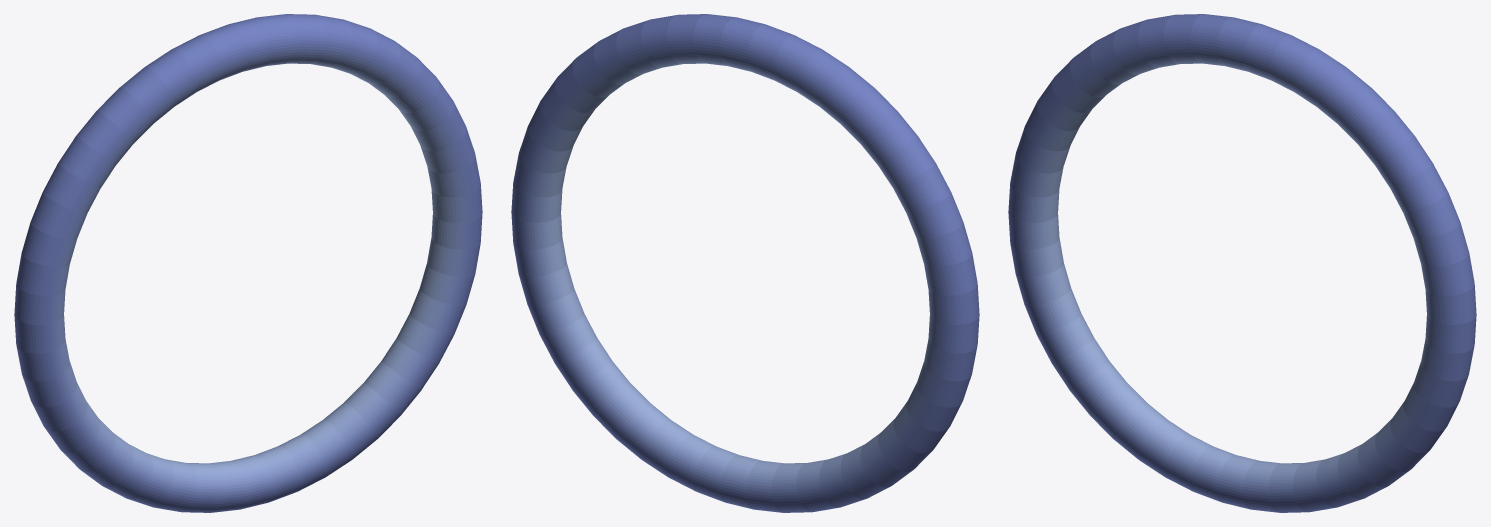
3 renders of one model, left to right at view 1: azimuth 30°, elevation 25°; view 2: azimuth 150°, elevation 25°; view 3: azimuth 330°, elevation 25°, orthographic.
Parts seen in each view (by area): view 1: world; view 2: world; view 3: world.
Boxes of the visible parts, bbox=[...] form: world: bbox=[14, 14, 482, 512]; world: bbox=[511, 14, 979, 512]; world: bbox=[1008, 14, 1476, 512].
Size of the model in its own units: 27.2 by 27.15 by 2.53.
